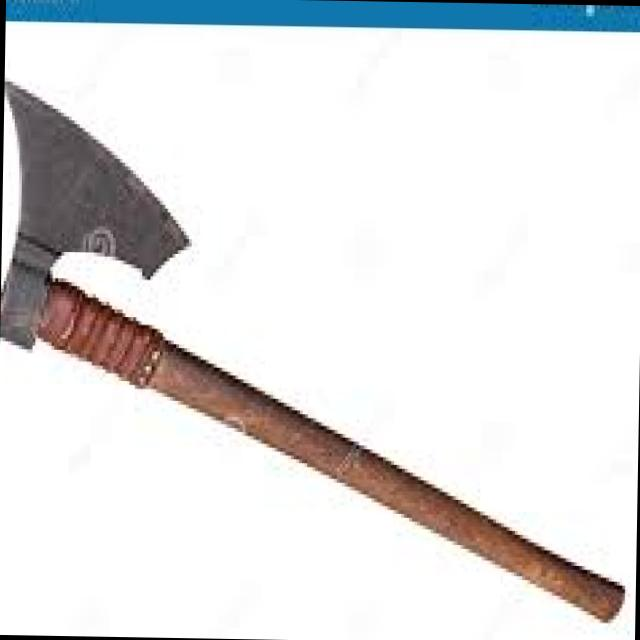Gun: (0, 62, 639, 640)
